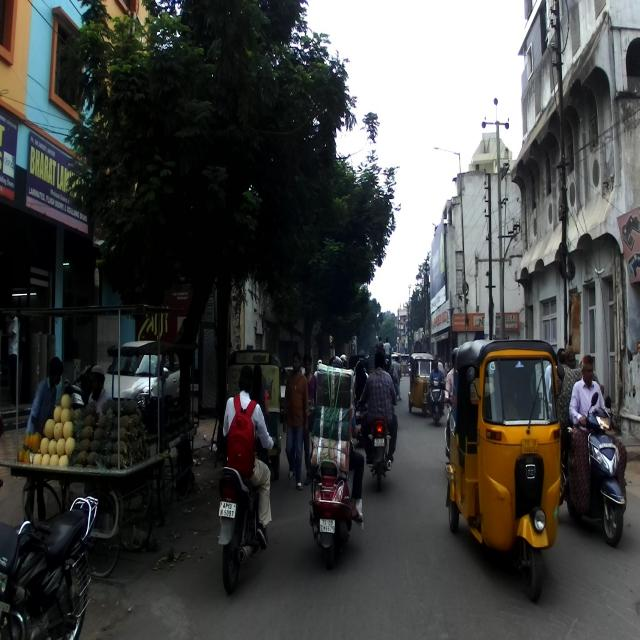autorickshaw: (442, 339, 564, 601), (226, 347, 281, 481)
car: (88, 337, 182, 449)
motorcycle: (1, 486, 99, 640), (212, 429, 276, 596), (358, 390, 398, 492)
scooter: (558, 390, 626, 547), (303, 403, 362, 572)
